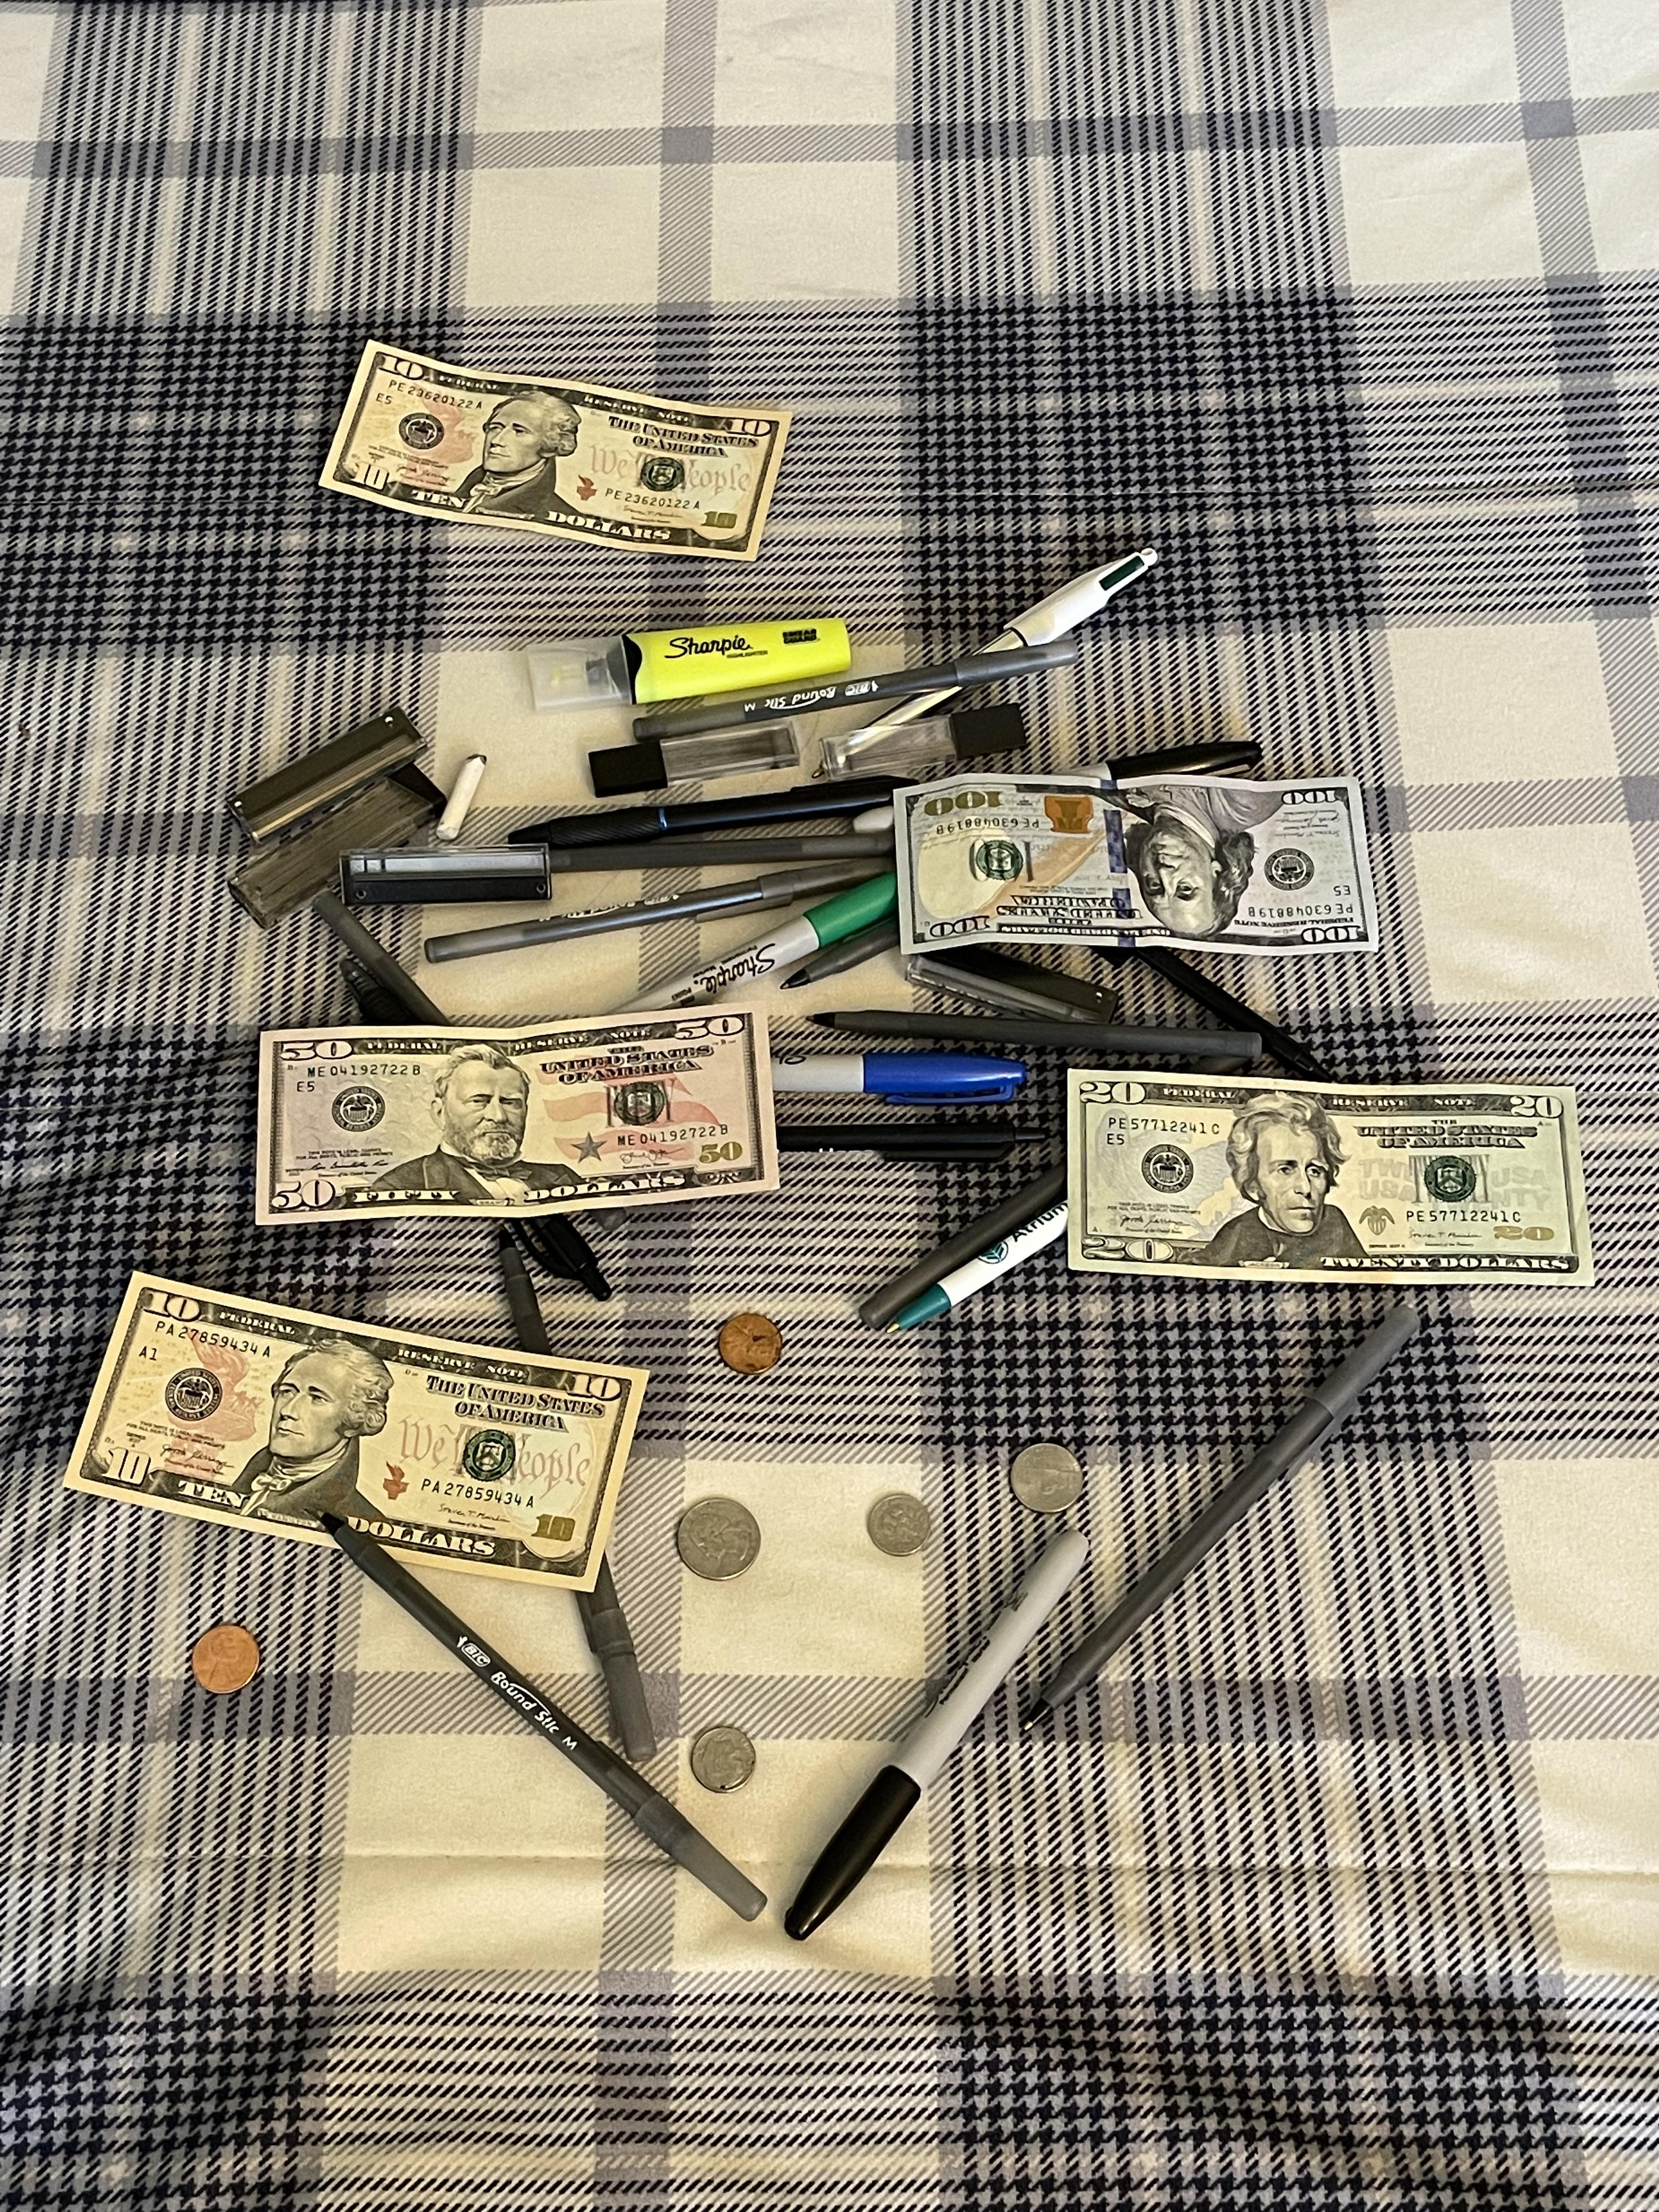Dime: (692, 1726, 756, 1794), (868, 1493, 931, 1557)
FiftyBill: (253, 1000, 781, 1228)
HundredBill: (892, 770, 1380, 956)
Nickel: (1009, 1442, 1084, 1514)
Penny: (192, 1625, 261, 1696), (716, 1312, 782, 1376)
Quarter: (676, 1498, 762, 1583)
TenBill: (61, 1268, 650, 1594), (315, 336, 795, 563)
TwentyBill: (1065, 1066, 1595, 1289)
